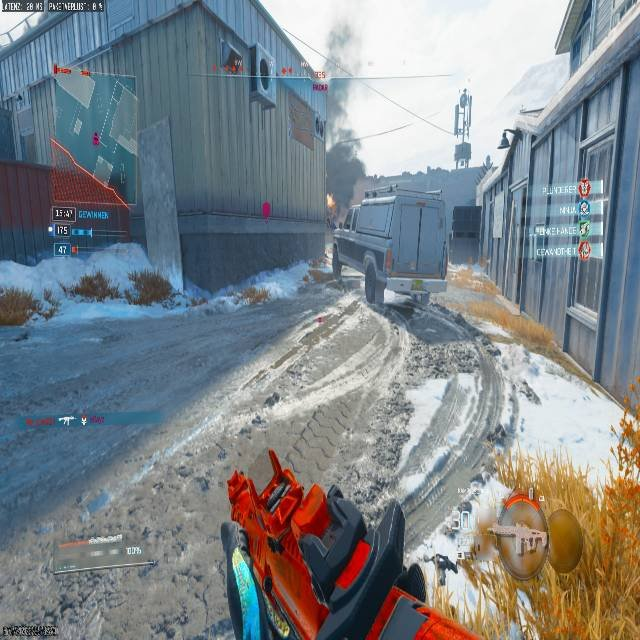player: (487, 340, 540, 436)
